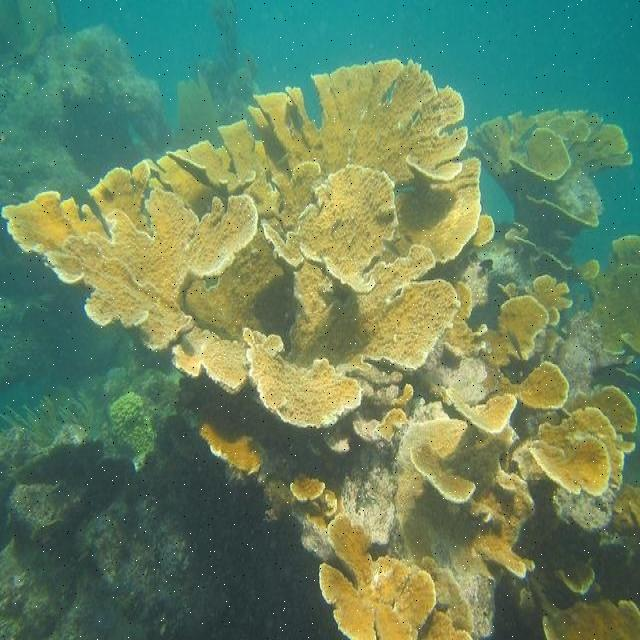reefs: (1, 57, 639, 639)
